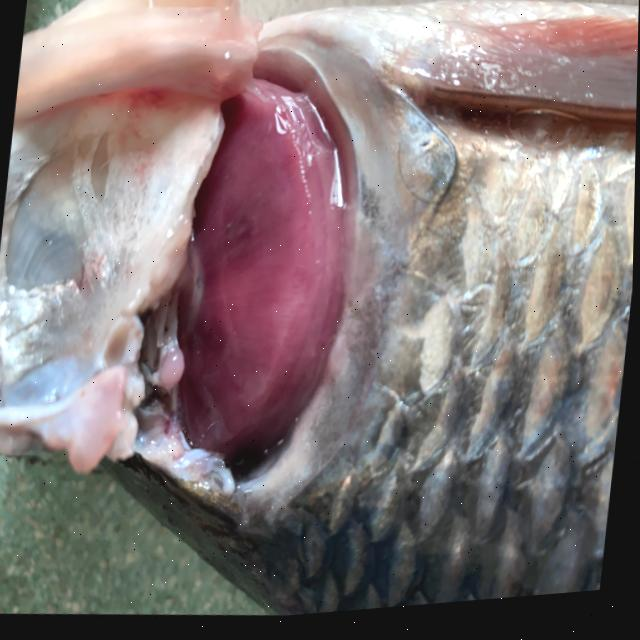Fresh: (125, 36, 383, 486)
